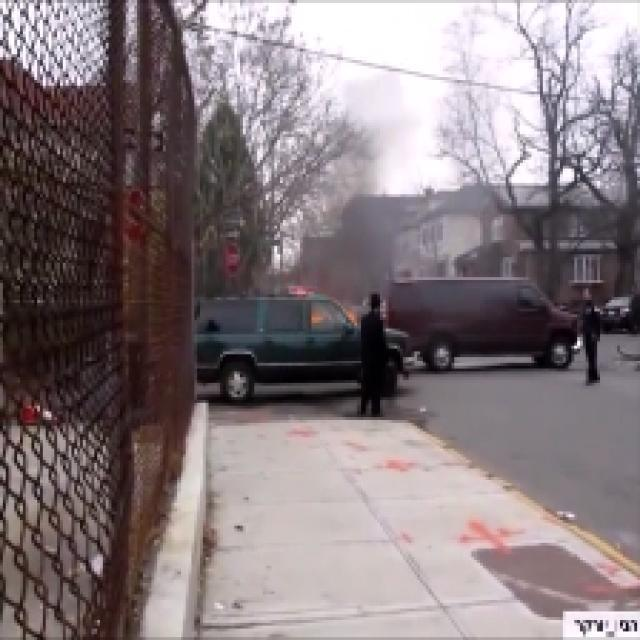Fire: (291, 282, 364, 338)
Smoke: (318, 117, 397, 276)
